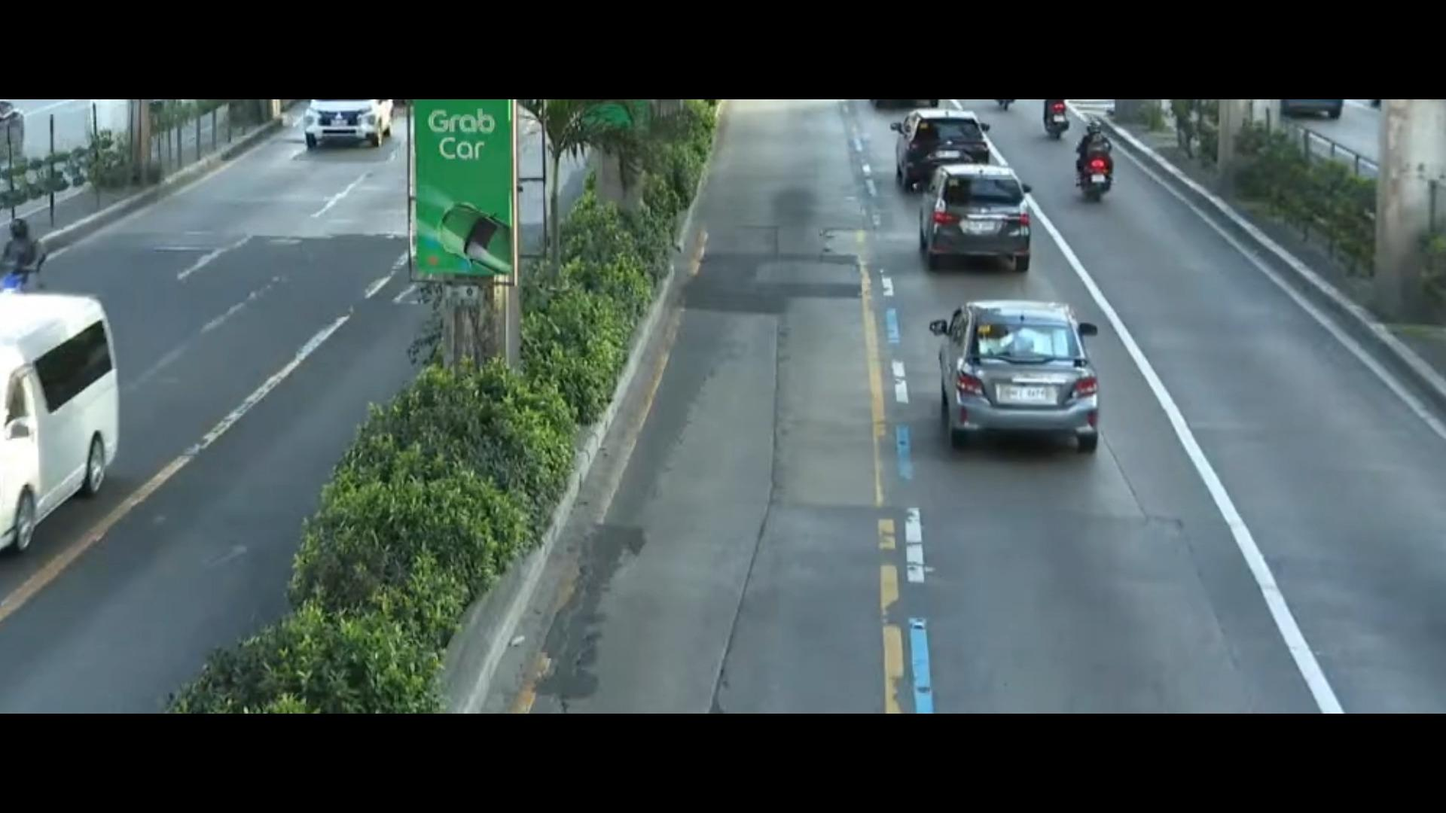Motorcycle: (1058, 116, 1125, 216), (0, 224, 63, 292), (1042, 95, 1082, 144)
SUV: (899, 174, 1045, 286), (885, 103, 1005, 202), (295, 101, 395, 174)
Sedan: (911, 294, 1133, 476)
Van: (0, 284, 134, 579)
